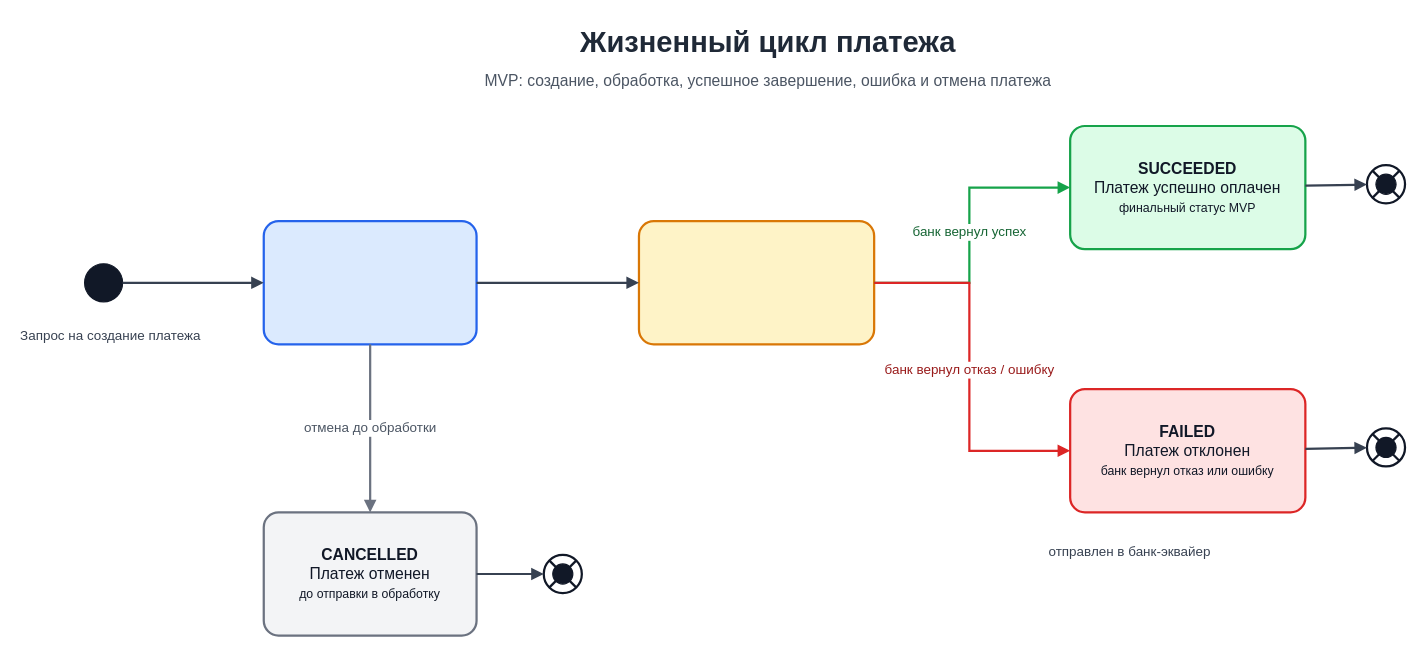
This 1425x655 diagram has some shape labels left out. The box of each missing label's shape, as (x1, y1, x2, y2) in pixels:
CREATED Платеж создан ожидает обработки или отмены: (262, 220, 477, 345)
PROCESSING Платеж в обработке запрос отправлен в банк-эквайер: (637, 220, 875, 345)
